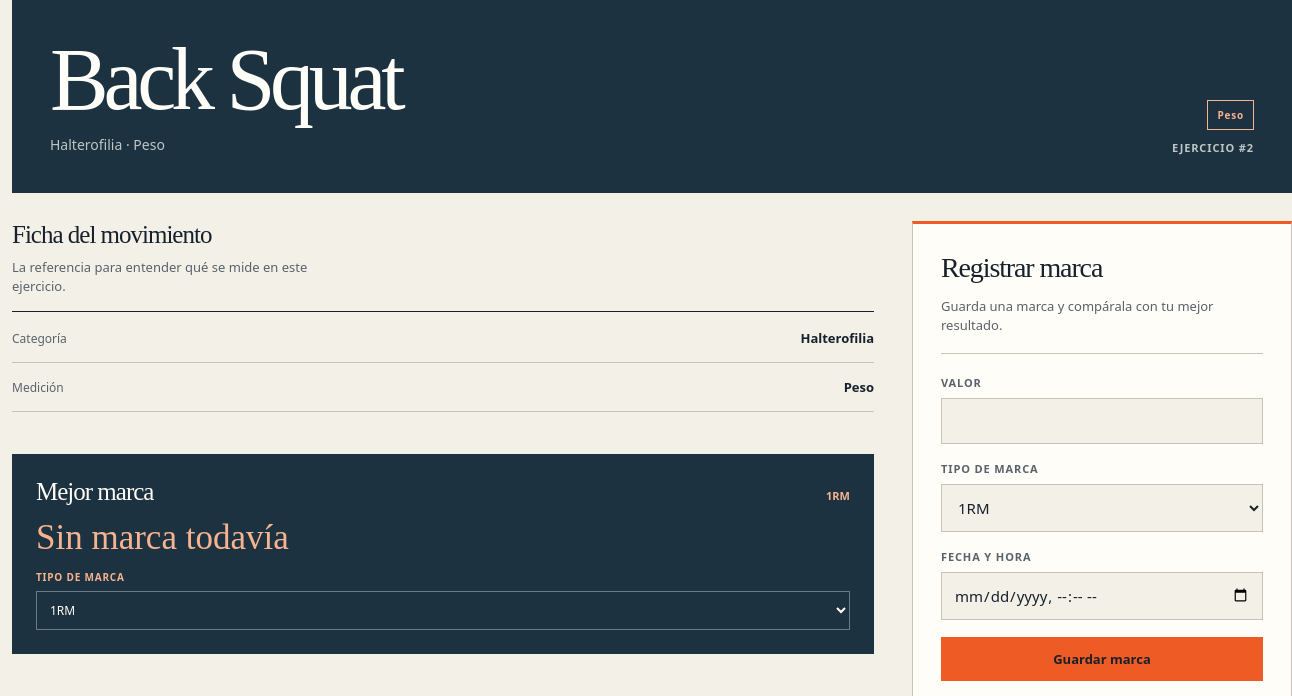
Test: ExerciseDetailPage › shows accessible feedback after saving a mark
The width and height of the screenshot is (1292, 696).
Expected: the heading "Back Squat" is shown, [50,38,400,122]
Type "100" into the number field labelled "Valor" at (1102, 421), box [941,398,1263,444]
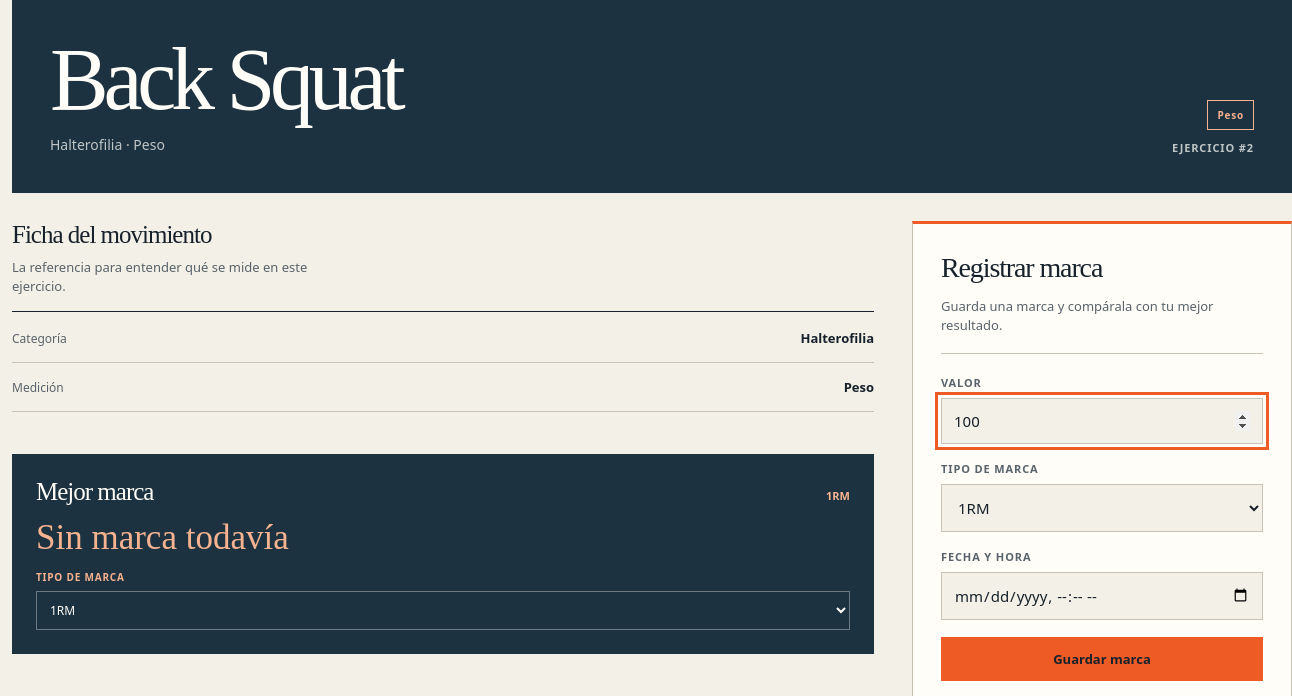
Click the button "Guardar marca" at (1102, 659), box [941,637,1263,681]
(page scrolled)
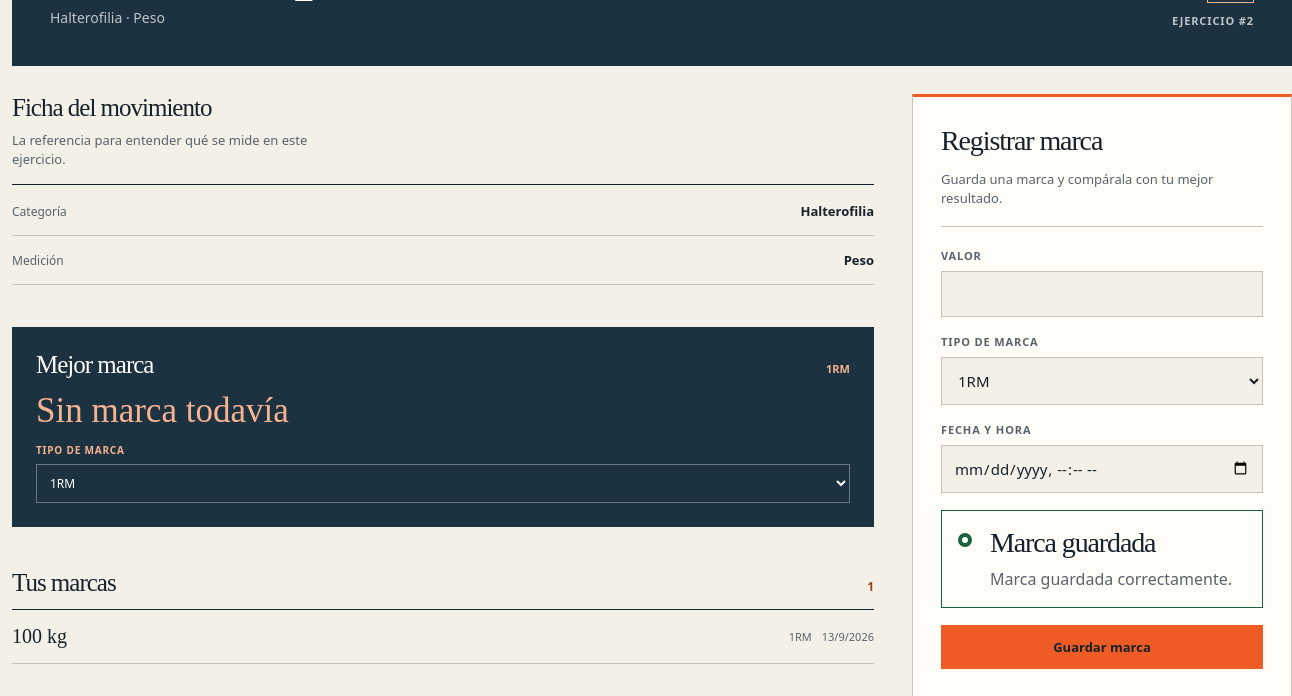
Now the message "Marca guardada" is shown, box [941,510,1263,608]
Now the text "Marca guardada correctamente." is shown, box [990,567,1246,591]
